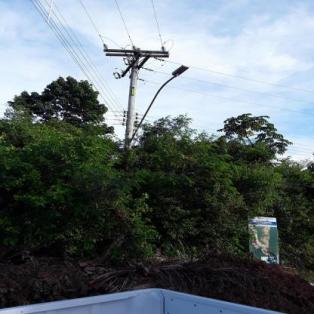Poste: (122, 47, 143, 149)
